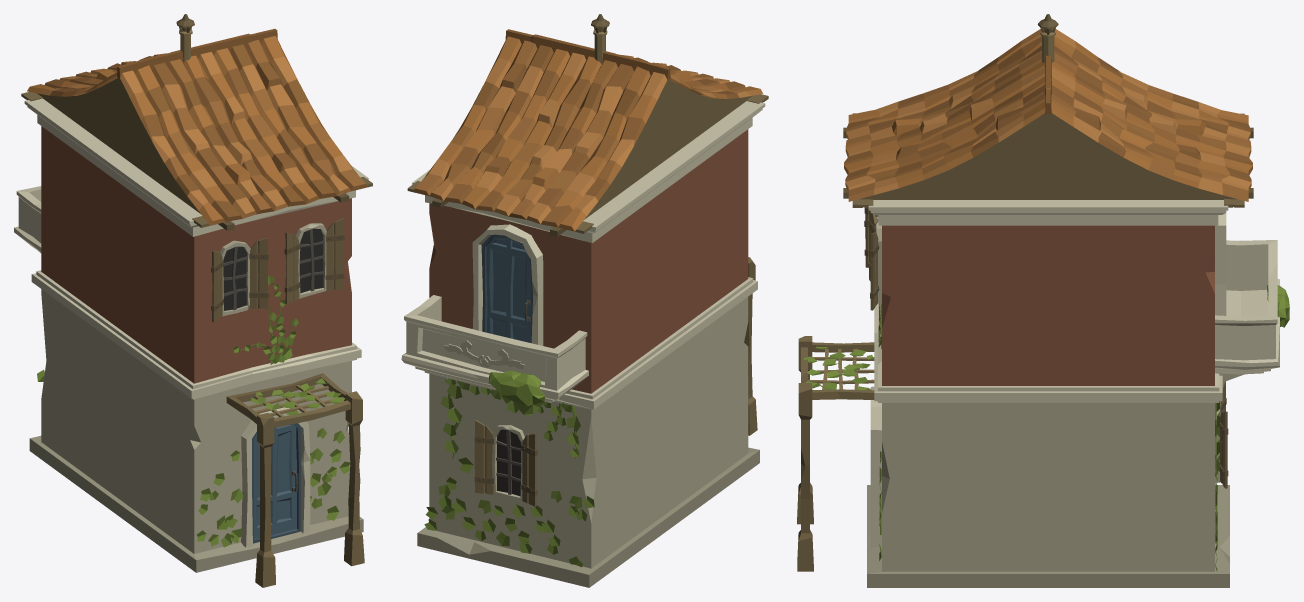
Rendered from Building_10.fbx.
The picture shows the model from 3 angles, left to right: view 1: azimuth 30°, elevation 25°; view 2: azimuth 150°, elevation 25°; view 3: azimuth 270°, elevation 25°; orthographic projection. The views are drawn at different scales.
Parts seen in each view (by area): view 1: Building_10; view 2: Building_10; view 3: Building_10.
Boxes of the visible parts, x1,y1,x2,y2 form: Building_10: (14, 14, 372, 587); Building_10: (401, 14, 768, 587); Building_10: (797, 14, 1289, 587).
Bounding box in the file's own units: 371 × 952 × 813.
